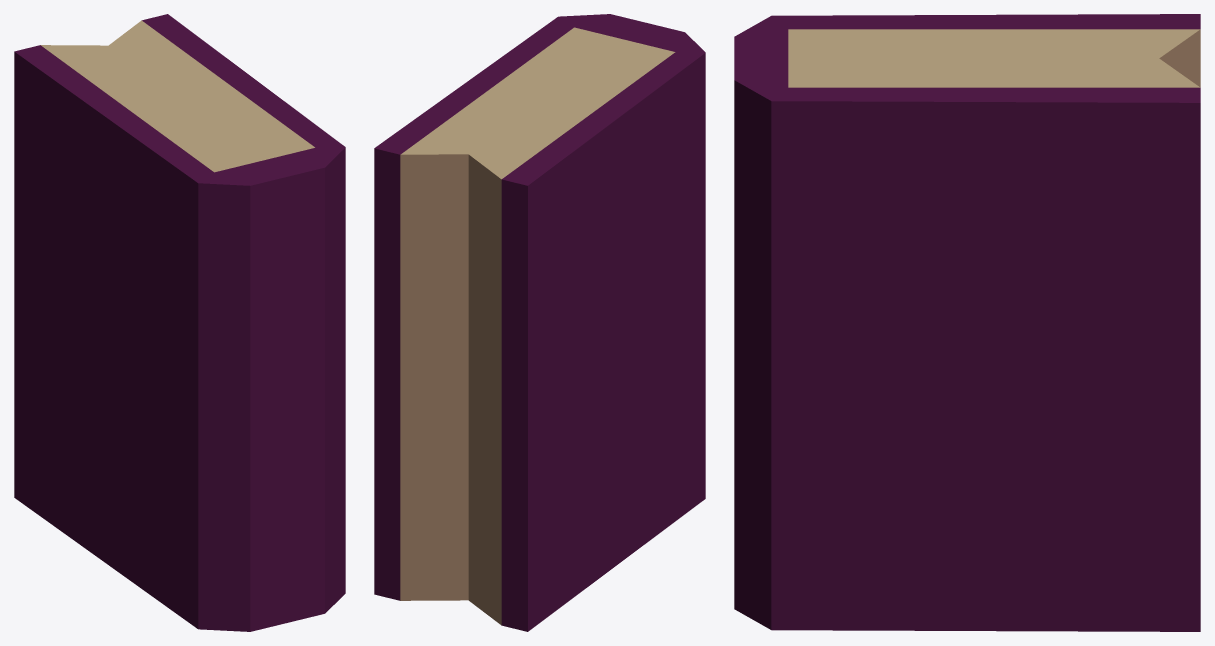
File: TB_D_Prop_Book_Small_C.FBX
3 views of the same model, side by side, from view 1: azimuth 30°, elevation 25°; view 2: azimuth 150°, elevation 25°; view 3: azimuth 270°, elevation 25° (orthographic). The views are drawn at different scales.
Visible parts, largest first — view 1: TB_D_Prop_Book_Small_C; view 2: TB_D_Prop_Book_Small_C; view 3: TB_D_Prop_Book_Small_C.
Part boxes in pixels (box(x1,y1,x2,y2)): TB_D_Prop_Book_Small_C: box(14, 14, 345, 631); TB_D_Prop_Book_Small_C: box(374, 14, 705, 631); TB_D_Prop_Book_Small_C: box(734, 14, 1200, 631).
Size of the model in its own units: 0.182 by 0.5049 by 0.4035.
